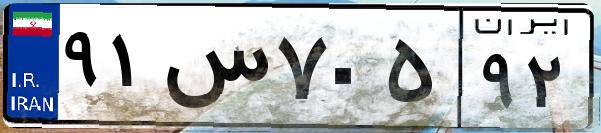0: (330, 28, 385, 110)
1: (110, 28, 158, 98)
2: (525, 38, 570, 115)
5: (385, 28, 445, 110)
7: (270, 28, 330, 110)
9: (57, 26, 110, 100), (475, 38, 525, 113)
س: (158, 20, 270, 120)
